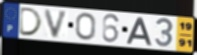3: (154, 16, 175, 49)
6: (102, 14, 121, 45)
A: (125, 16, 153, 47)
D: (18, 6, 44, 37)
O: (74, 12, 97, 42)
V: (43, 9, 70, 40)
